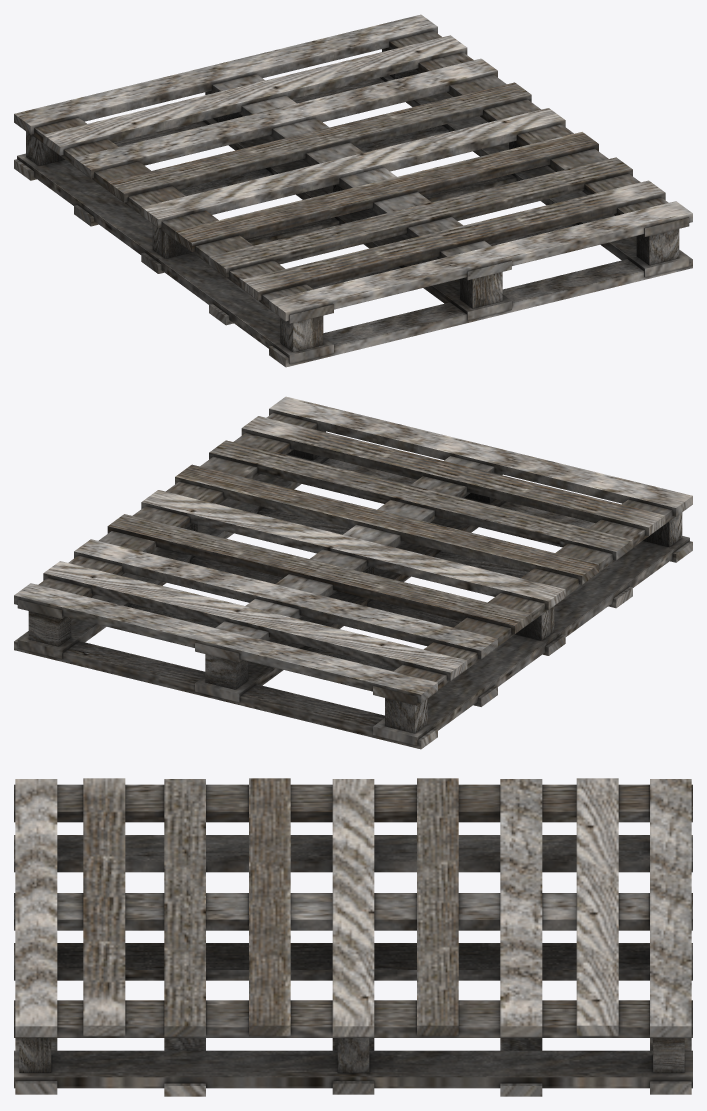
The model's file is PalletWide.fbx.
3 views of the same model, one above another, from view 1: azimuth 30°, elevation 25°; view 2: azimuth 150°, elevation 25°; view 3: azimuth 270°, elevation 25° (orthographic). The views are drawn at different scales.
Parts seen in each view (by area): view 1: PalletWide; view 2: PalletWide; view 3: PalletWide.
Part boxes in pixels (x1=…): PalletWide: x1=14, y1=14, x2=692, y2=367; PalletWide: x1=14, y1=396, x2=692, y2=749; PalletWide: x1=14, y1=778, x2=692, y2=1096.
Size of the model in its own units: 6.65 by 0.8912 by 7.72.
